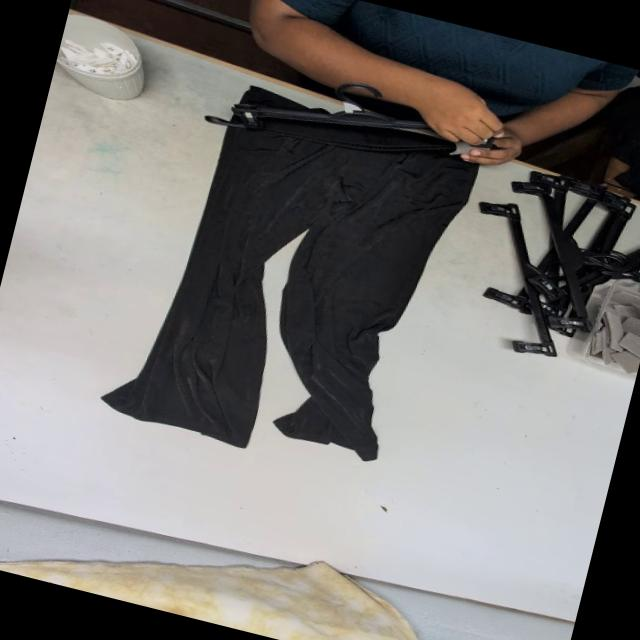new-garment: (102, 86, 474, 459)
